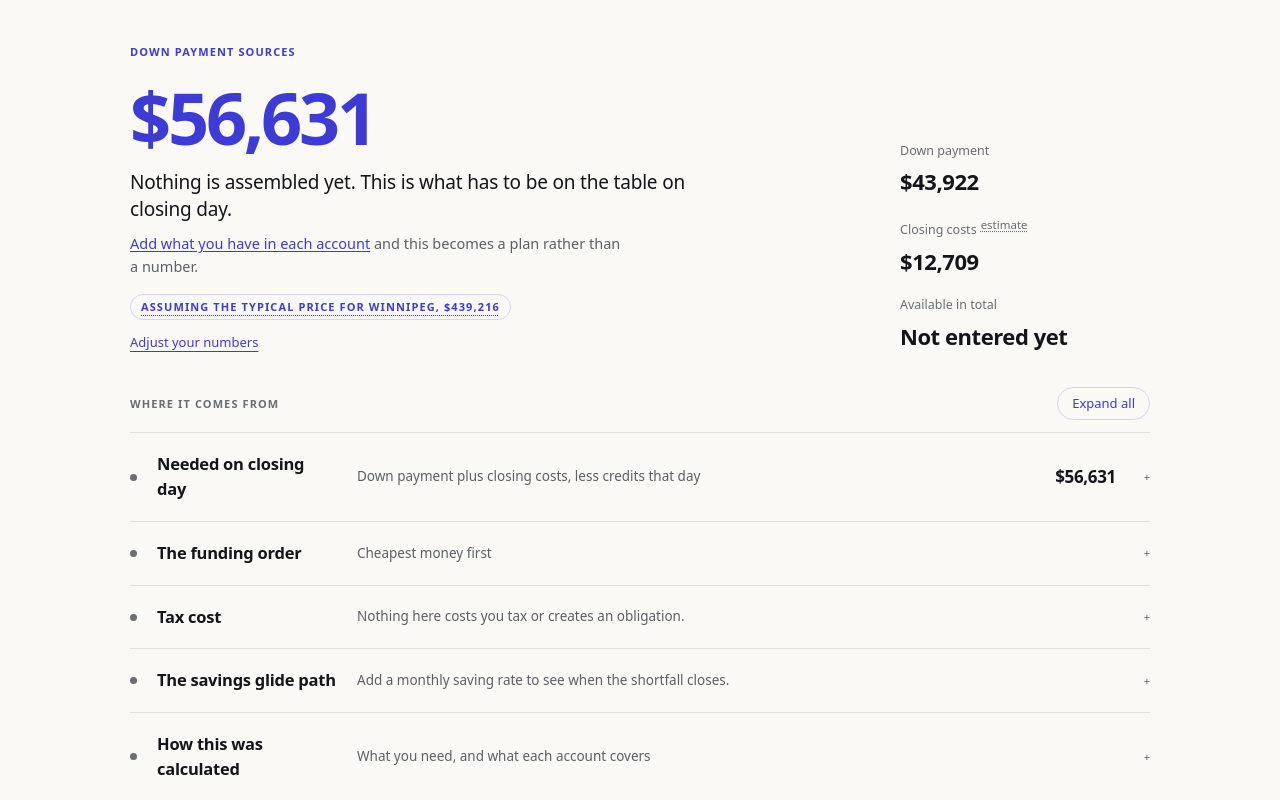
Down payment — the waterfall › says nothing is entered, rather than printing $0 available, before any balance
The width and height of the screenshot is (1280, 800).
Click the button "The funding order Cheapest money first +".
click(229, 552)  # box 130,522 -> 1150,585
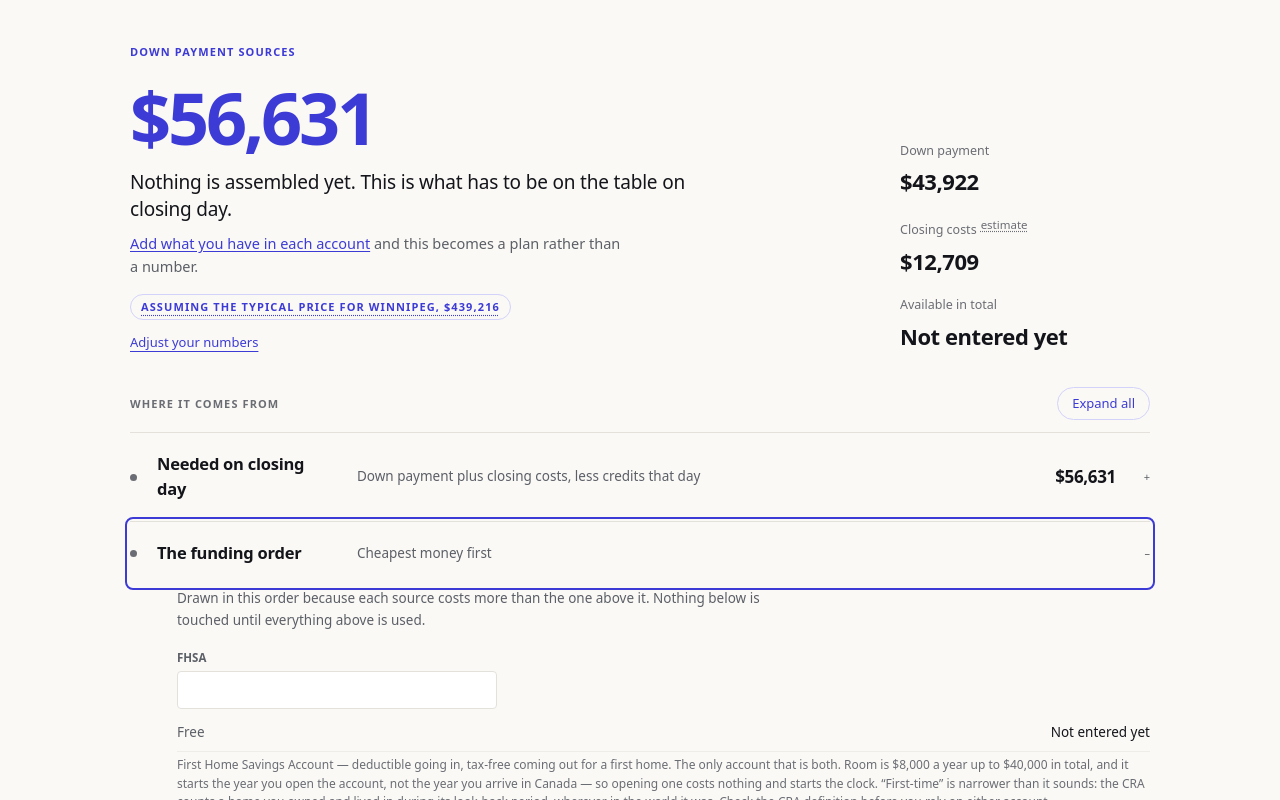
Expected: the text "Not entered yet" is shown 6 times
